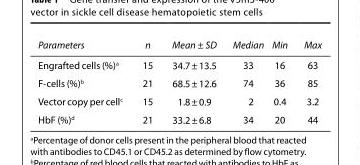table: (37, 37, 320, 125)
table column: (37, 37, 131, 125), (161, 37, 223, 125), (223, 37, 267, 125), (131, 37, 161, 125), (267, 37, 295, 125), (295, 37, 320, 125)
table column header: (37, 37, 320, 53)
table row: (37, 53, 320, 73), (37, 73, 320, 91), (37, 91, 320, 109), (37, 37, 320, 53), (37, 109, 320, 125)
